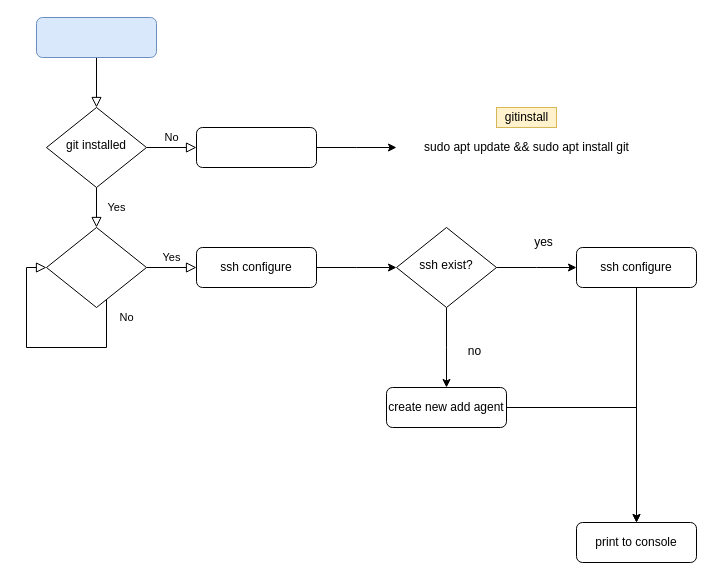
This 714x580 diagram has some shape labels left out. The box of each missing label's shape, as (x1, y1, x2, y2) in pixels:
git configure: (46, 226, 146, 308)
gitset: (36, 16, 156, 58)
install git: (196, 126, 316, 168)
